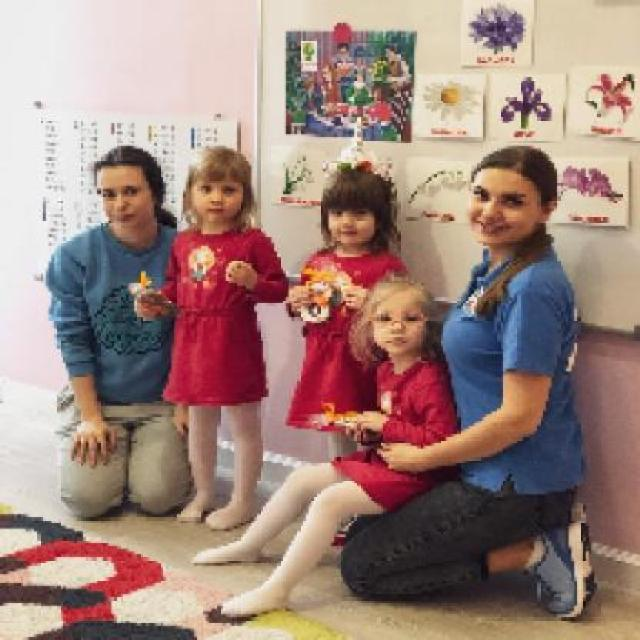child: (189, 272, 460, 618), (128, 142, 292, 528), (281, 166, 410, 460)
